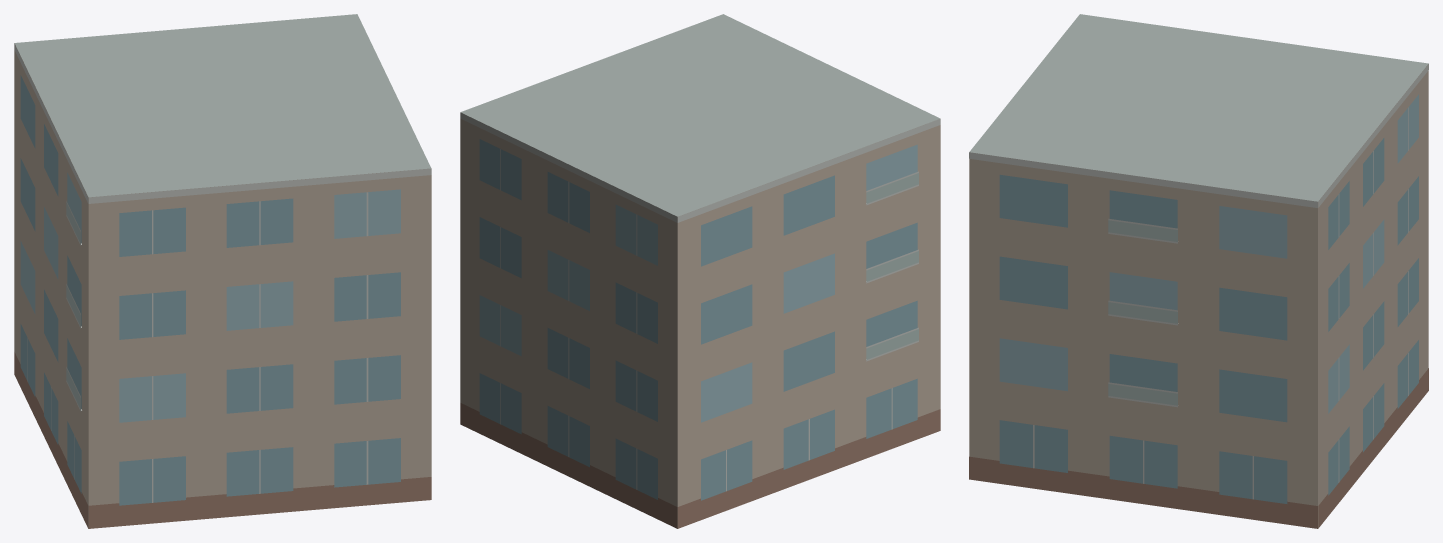
The model's file is survey-upis-32811916.glb.
The picture shows the model from 3 angles, left to right: view 1: azimuth 30°, elevation 25°; view 2: azimuth 150°, elevation 25°; view 3: azimuth 270°, elevation 25°; orthographic projection. The views are drawn at different scales.
Visible parts, largest first — view 1: survey-upis-32811916.tmp; view 2: survey-upis-32811916.tmp; view 3: survey-upis-32811916.tmp.
Part boxes in pixels (bbox=[...]): survey-upis-32811916.tmp: bbox=[14, 14, 431, 528]; survey-upis-32811916.tmp: bbox=[460, 14, 940, 528]; survey-upis-32811916.tmp: bbox=[969, 14, 1428, 528].
Size of the model in its own units: 15.02 by 12.2 by 15.54.
